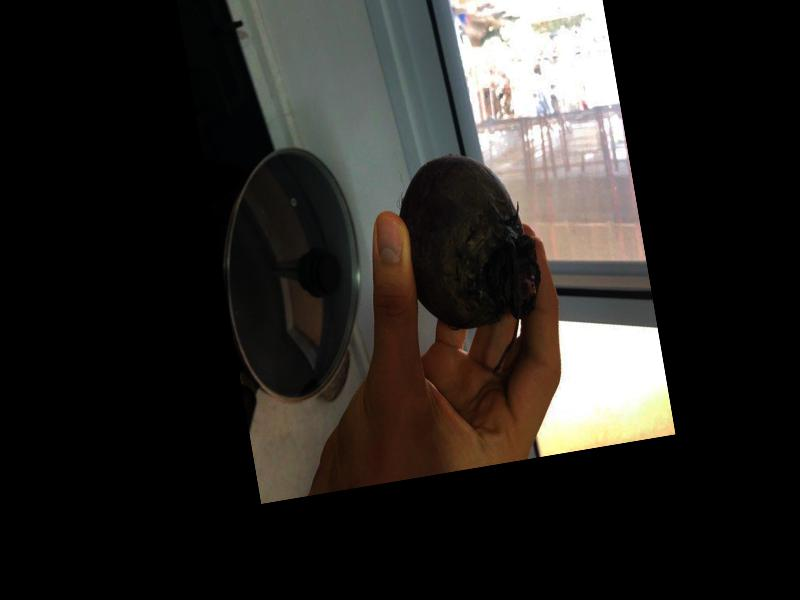Beet: (389, 143, 556, 387)
